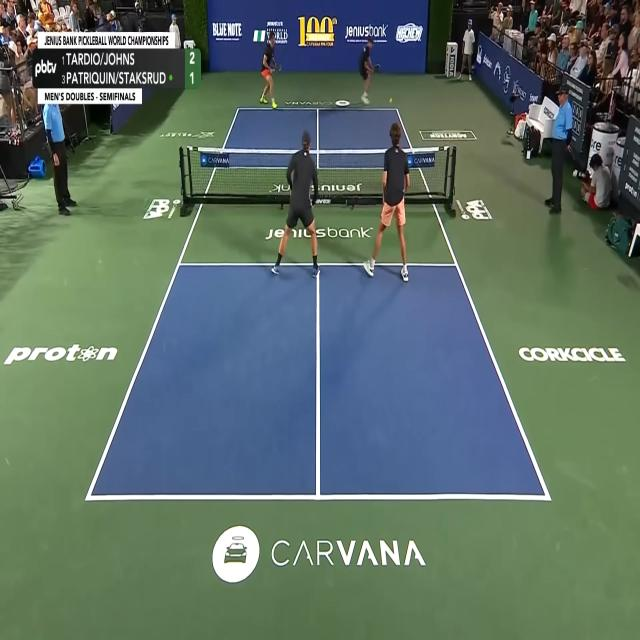ball: (389, 98, 392, 103)
